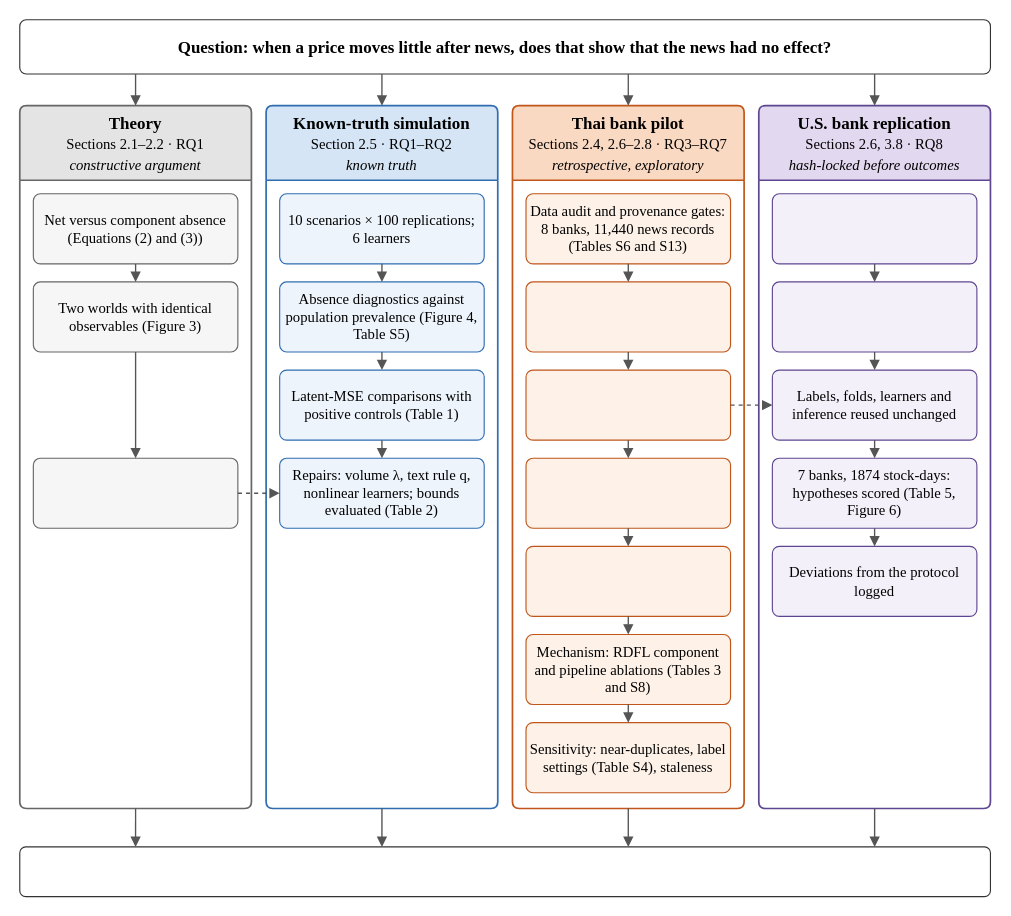
This 1011x916 diagram has some shape labels left out. The shapes that lost their labels are listed below. From the top down, each one's centre as x and y in pixels, then its label:
At point (874, 228): "FNSPID inspected before the freeze: article counts and dates only".
At point (628, 316): "RDFL labels from price response and trading volume (Figure 2)".
At point (874, 316): "Protocol, 7 hypotheses and all executed code hash-locked".
At point (628, 404): "7 quarterly folds, 5-session purge, exact-overlap exclusion (Figure S1)".
At point (135, 492): "Partial-identification bounds: observable and oracle".
At point (628, 492): "5 learners evaluated on 2197 identical stock-days".
At point (628, 580): "Paired moving-block bootstrap, Holm, ±2% margin (Table 4, Figure 5, Table S7)".
At point (504, 871): "Conclusions and scope (Sections 4 and 5)".
